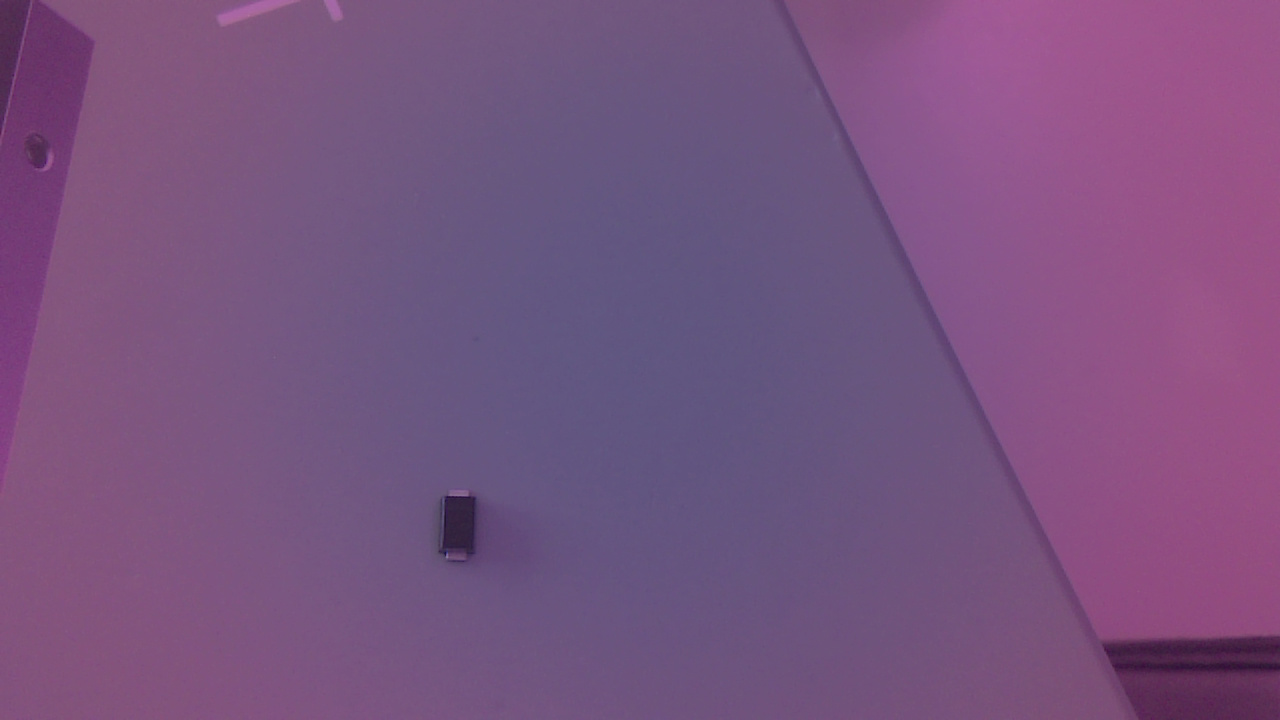Diode: (437, 488, 491, 574)
